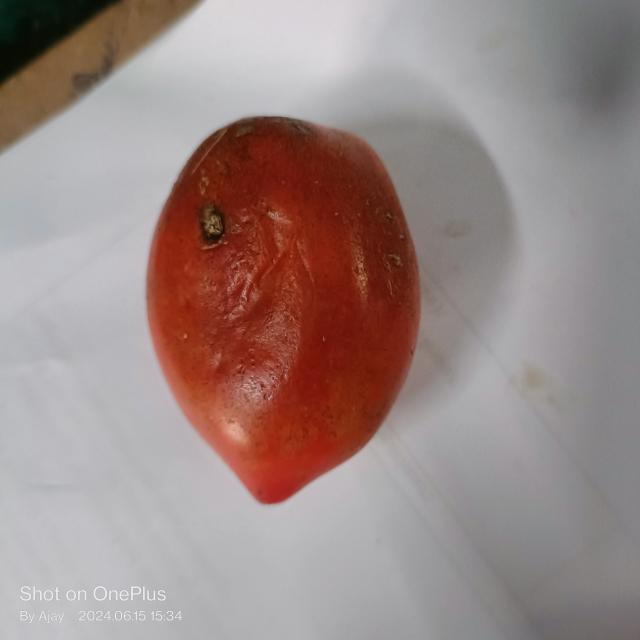Botrytis: (371, 248, 406, 284), (199, 205, 227, 248), (228, 125, 252, 141)
